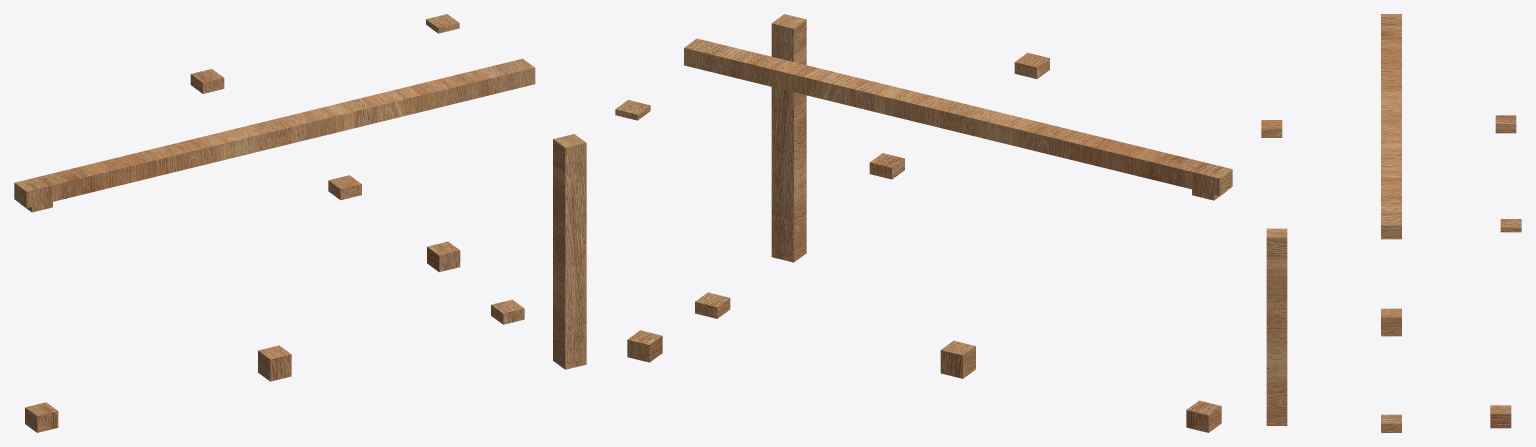
File: 19612_deepcad-end2end.glb
The picture shows the model from 3 angles, left to right: view 1: azimuth 30°, elevation 25°; view 2: azimuth 150°, elevation 25°; view 3: azimuth 270°, elevation 25°; orthographic projection. The views are drawn at different scales.
Visible parts, largest first — view 1: test_cmd_19612_pred; view 2: test_cmd_19612_pred; view 3: test_cmd_19612_pred.
Part boxes in pixels (<box>): test_cmd_19612_pred: <box>14,14,586,432</box>; test_cmd_19612_pred: <box>615,14,1232,432</box>; test_cmd_19612_pred: <box>1261,14,1521,432</box>.
Size of the model in its own units: 1 by 0.4688 by 0.5208.
1 material, 1 textured.
